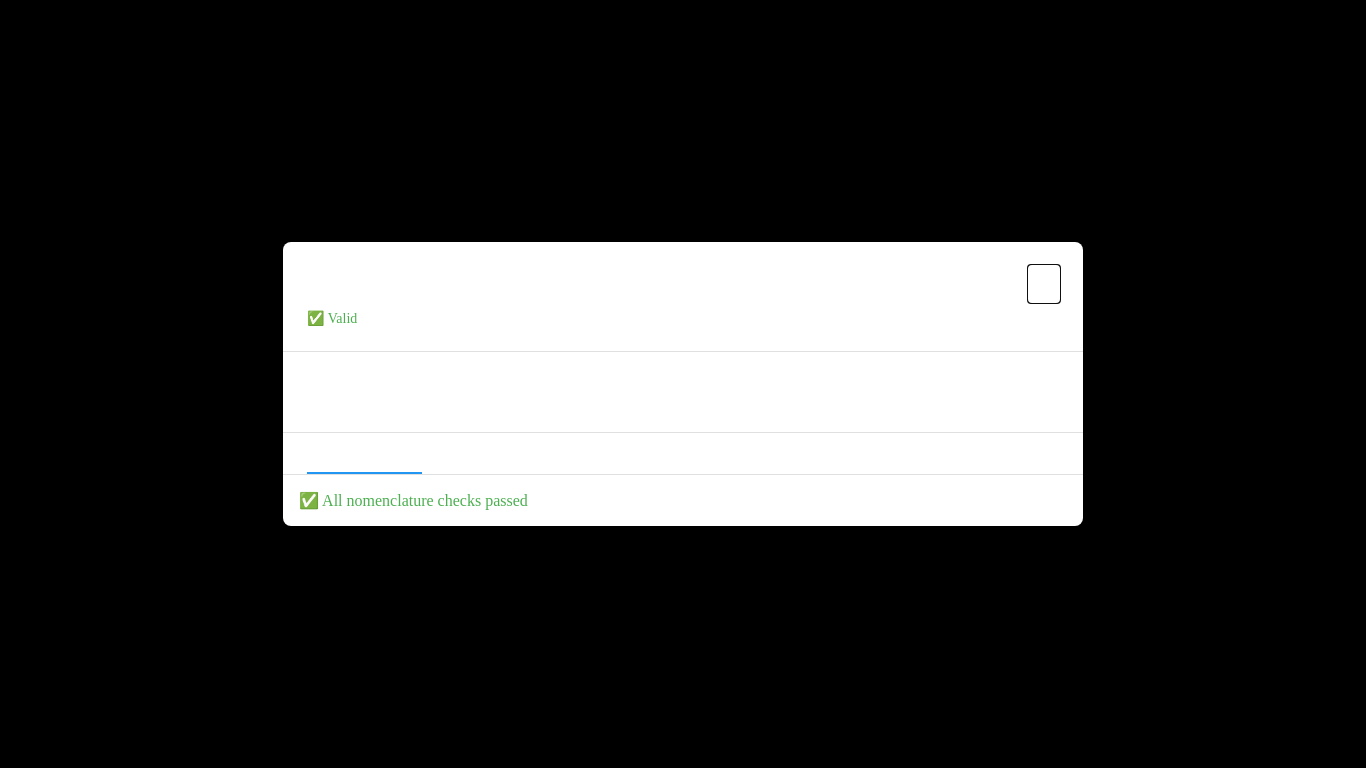
Test case: ValidationReportModal › Edge Cases › should show placeholder when metadata is empty object
Click the tab "Metadata" at (556, 454), box [512, 433, 600, 474]
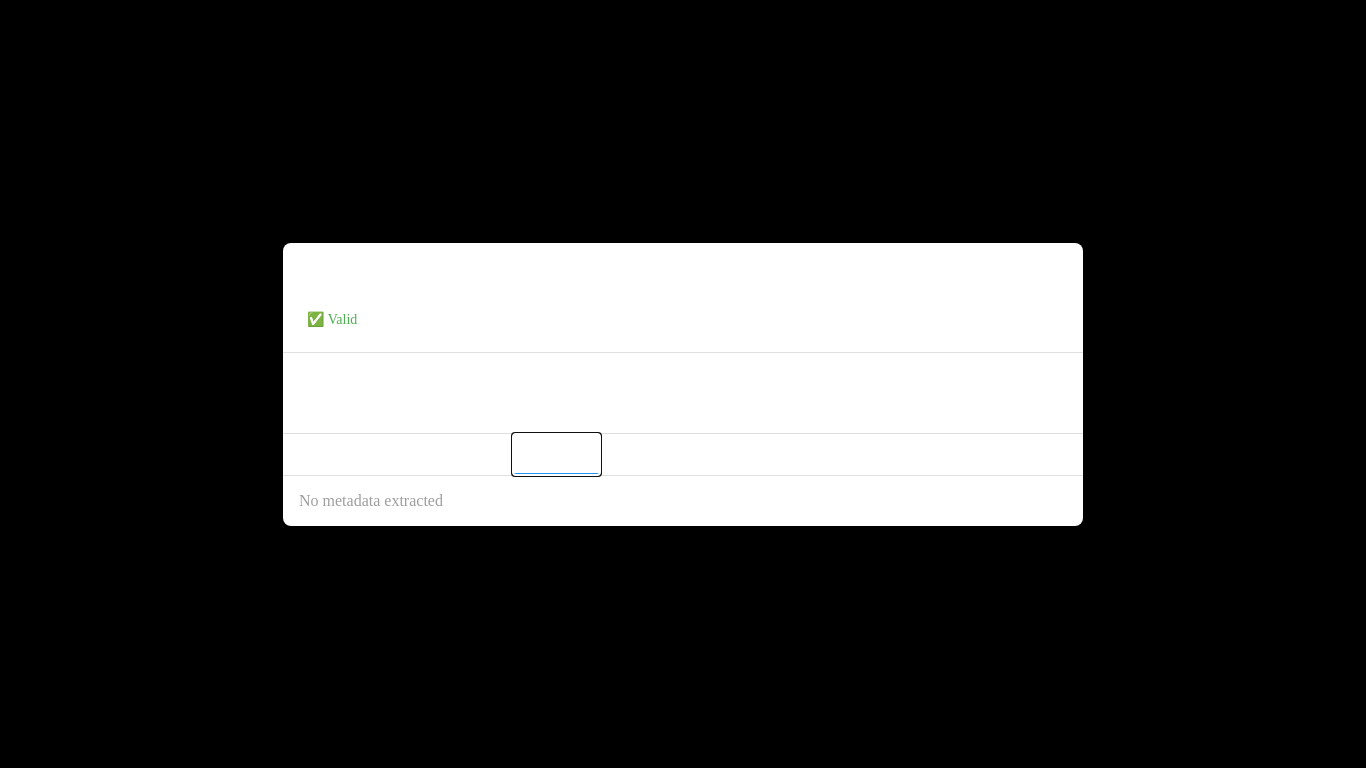
expect the text "No metadata extracted" is shown: met, box [299, 492, 443, 508]
